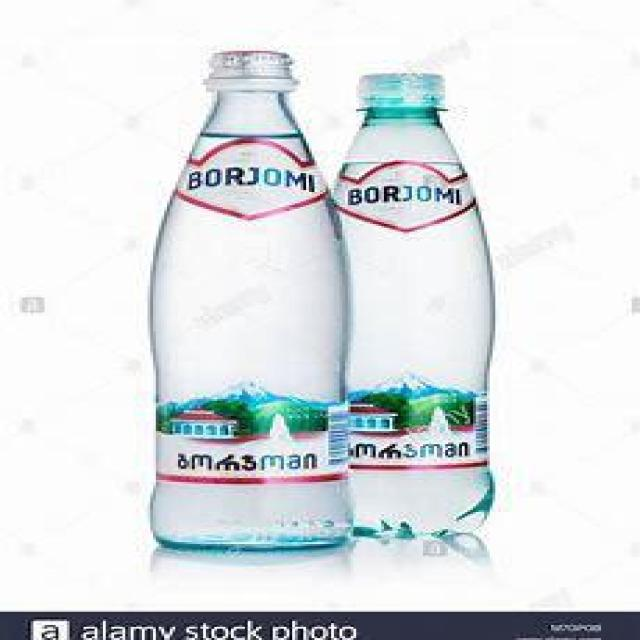bottle: (154, 41, 350, 554), (352, 66, 494, 540)
